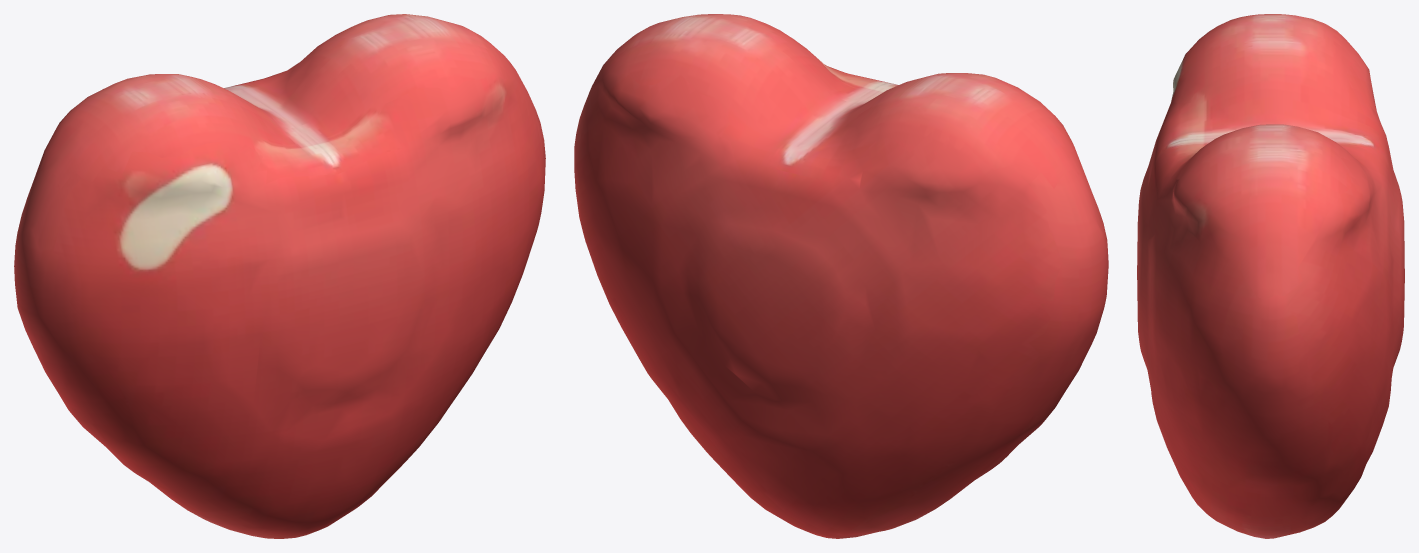
The model's file is heart.glb.
3 renders of one model, left to right at view 1: azimuth 30°, elevation 25°; view 2: azimuth 150°, elevation 25°; view 3: azimuth 270°, elevation 25°, orthographic. The views are drawn at different scales.
Visible parts, largest first — view 1: prop; view 2: prop; view 3: prop.
Boxes of the visible parts, <box> form: prop: <box>14,14,545,538</box>; prop: <box>574,14,1108,538</box>; prop: <box>1137,14,1404,538</box>.
Size of the model in its own units: 0.5021 by 0.441 by 0.239.
Materials: 1 (1 with a texture image).
